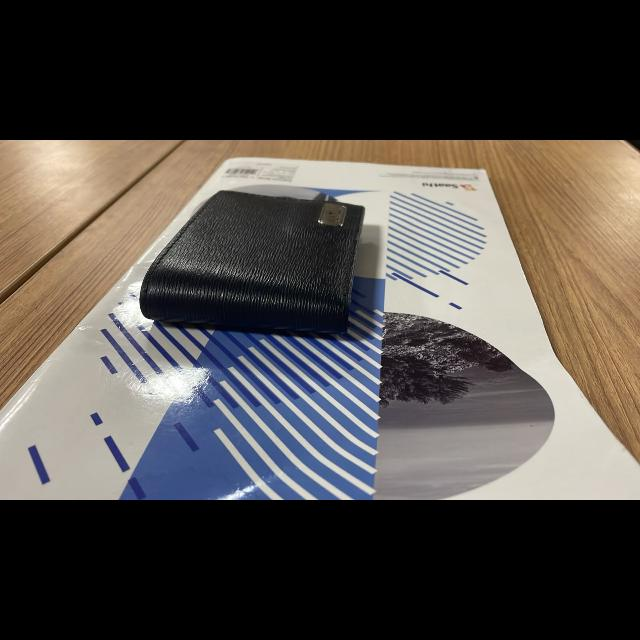wallet: (132, 181, 386, 361)
